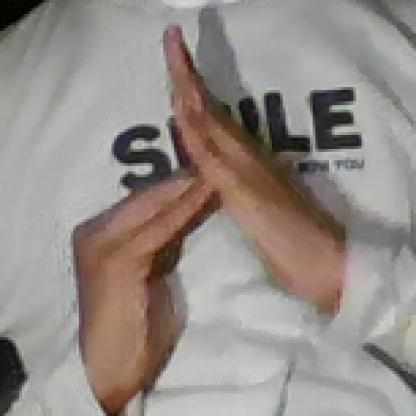Z: (70, 22, 304, 358)
